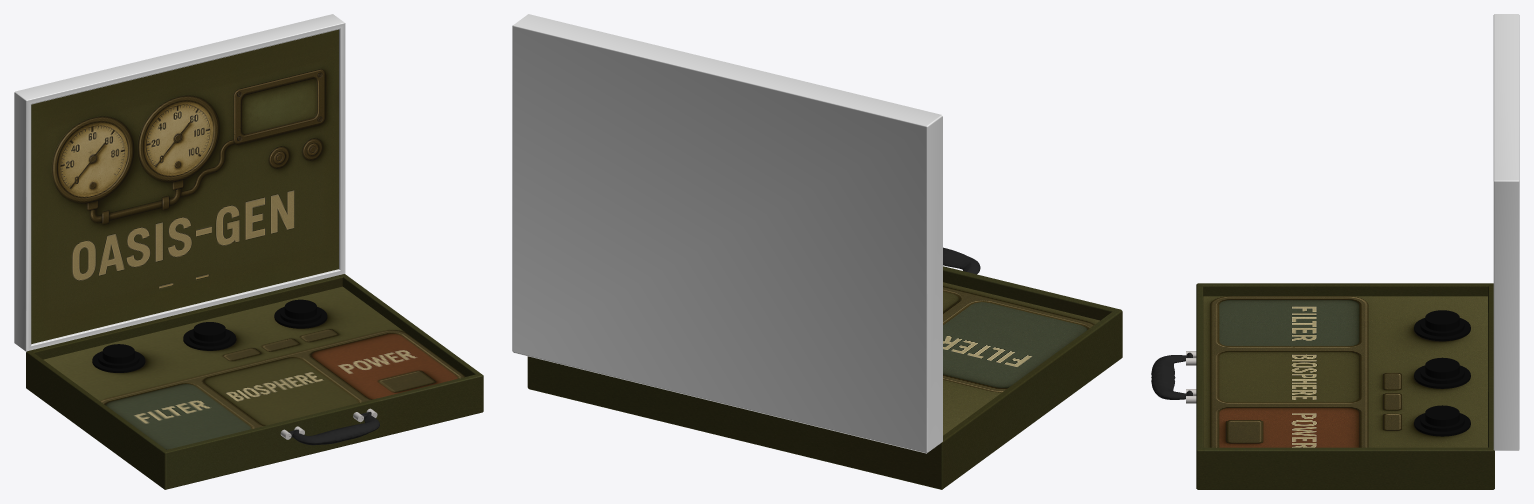
Rendered from Oasis_Gen.fbx.
The picture shows the model from 3 angles, left to right: view 1: azimuth 30°, elevation 25°; view 2: azimuth 150°, elevation 25°; view 3: azimuth 270°, elevation 25°; orthographic projection. The views are drawn at different scales.
Visible parts, largest first — view 1: GEnUP, GENDOWN, BRIEFCASE_DOWN, BRIEFCASE_UP, Button.001, Button.002, Button, BRIEFCASE_HANDLE; view 2: BRIEFCASE_UP, BRIEFCASE_DOWN, GENDOWN; view 3: GENDOWN, BRIEFCASE_DOWN, BRIEFCASE_UP, Button.001, Button.002, Button, BRIEFCASE_HANDLE.
Part boxes in pixels (x1,y1,x2,y2): GEnUP: (31,29,338,343); GENDOWN: (43,286,465,449); BRIEFCASE_DOWN: (26,274,483,489); BRIEFCASE_UP: (14,14,345,351); Button.001: (274,299,327,328); Button.002: (92,344,145,372); Button: (183,322,236,350); BRIEFCASE_HANDLE: (288,412,379,445); BRIEFCASE_UP: (512,14,942,453); BRIEFCASE_DOWN: (527,266,1122,489); GENDOWN: (943,282,1099,435); GENDOWN: (1203,296,1487,447); BRIEFCASE_DOWN: (1196,283,1494,489); BRIEFCASE_UP: (1493,14,1519,450); Button.001: (1414,405,1470,436); Button.002: (1414,310,1470,341); Button: (1414,357,1470,388); BRIEFCASE_HANDLE: (1151,352,1192,399).
Size of the model in its own units: 69.95 by 60.38 by 65.05.
